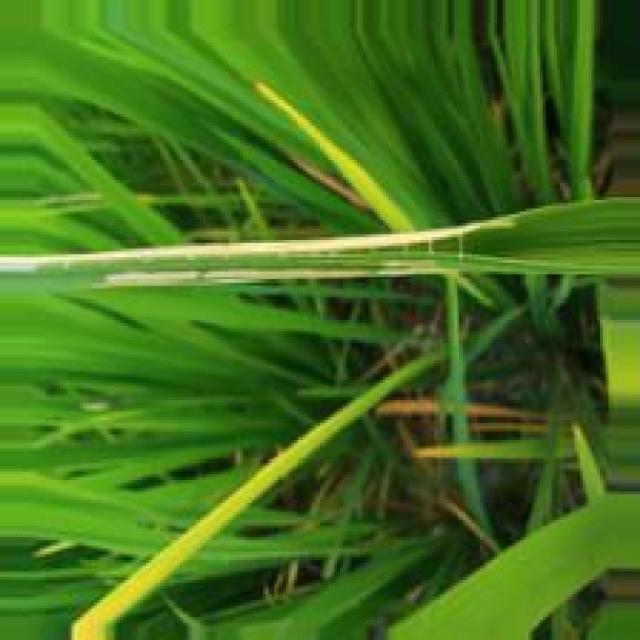Rice_Hispa: (0, 213, 527, 278), (100, 260, 460, 291)
